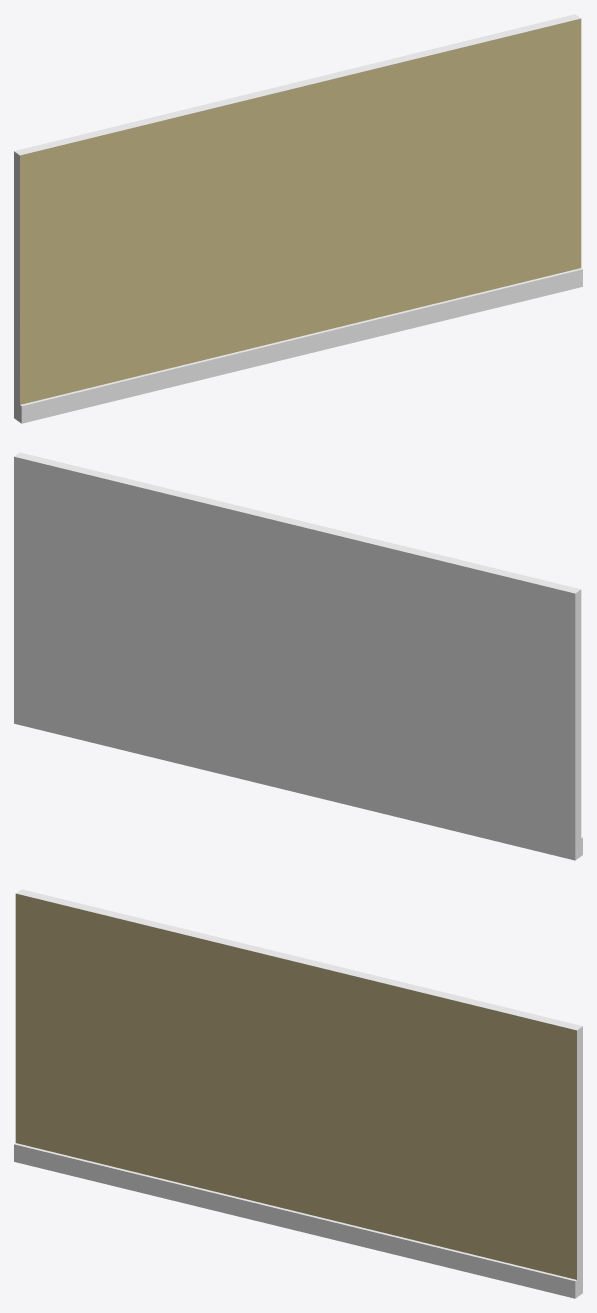
File: Wall 3.fbx
3 views of the same model, one above another, from view 1: azimuth 30°, elevation 25°; view 2: azimuth 150°, elevation 25°; view 3: azimuth 330°, elevation 25° (orthographic).
Visible parts, largest first — view 1: Wall 4; view 2: Wall 4; view 3: Wall 4.
Boxes of the visible parts, <box> form: Wall 4: <box>14,14,582,423</box>; Wall 4: <box>14,452,582,860</box>; Wall 4: <box>14,889,582,1298</box>.
Size of the model in its own units: 5500 by 2500 by 130.
Materials: 1 (1 with a texture image).
